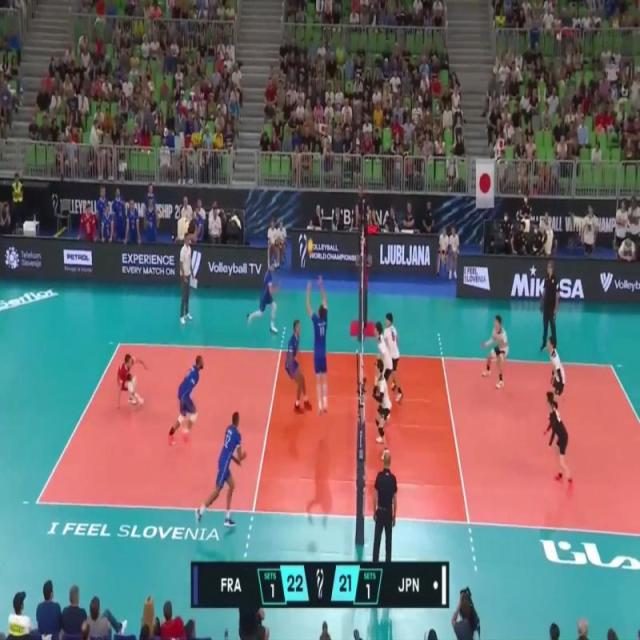volleyball: (306, 238, 314, 252)
